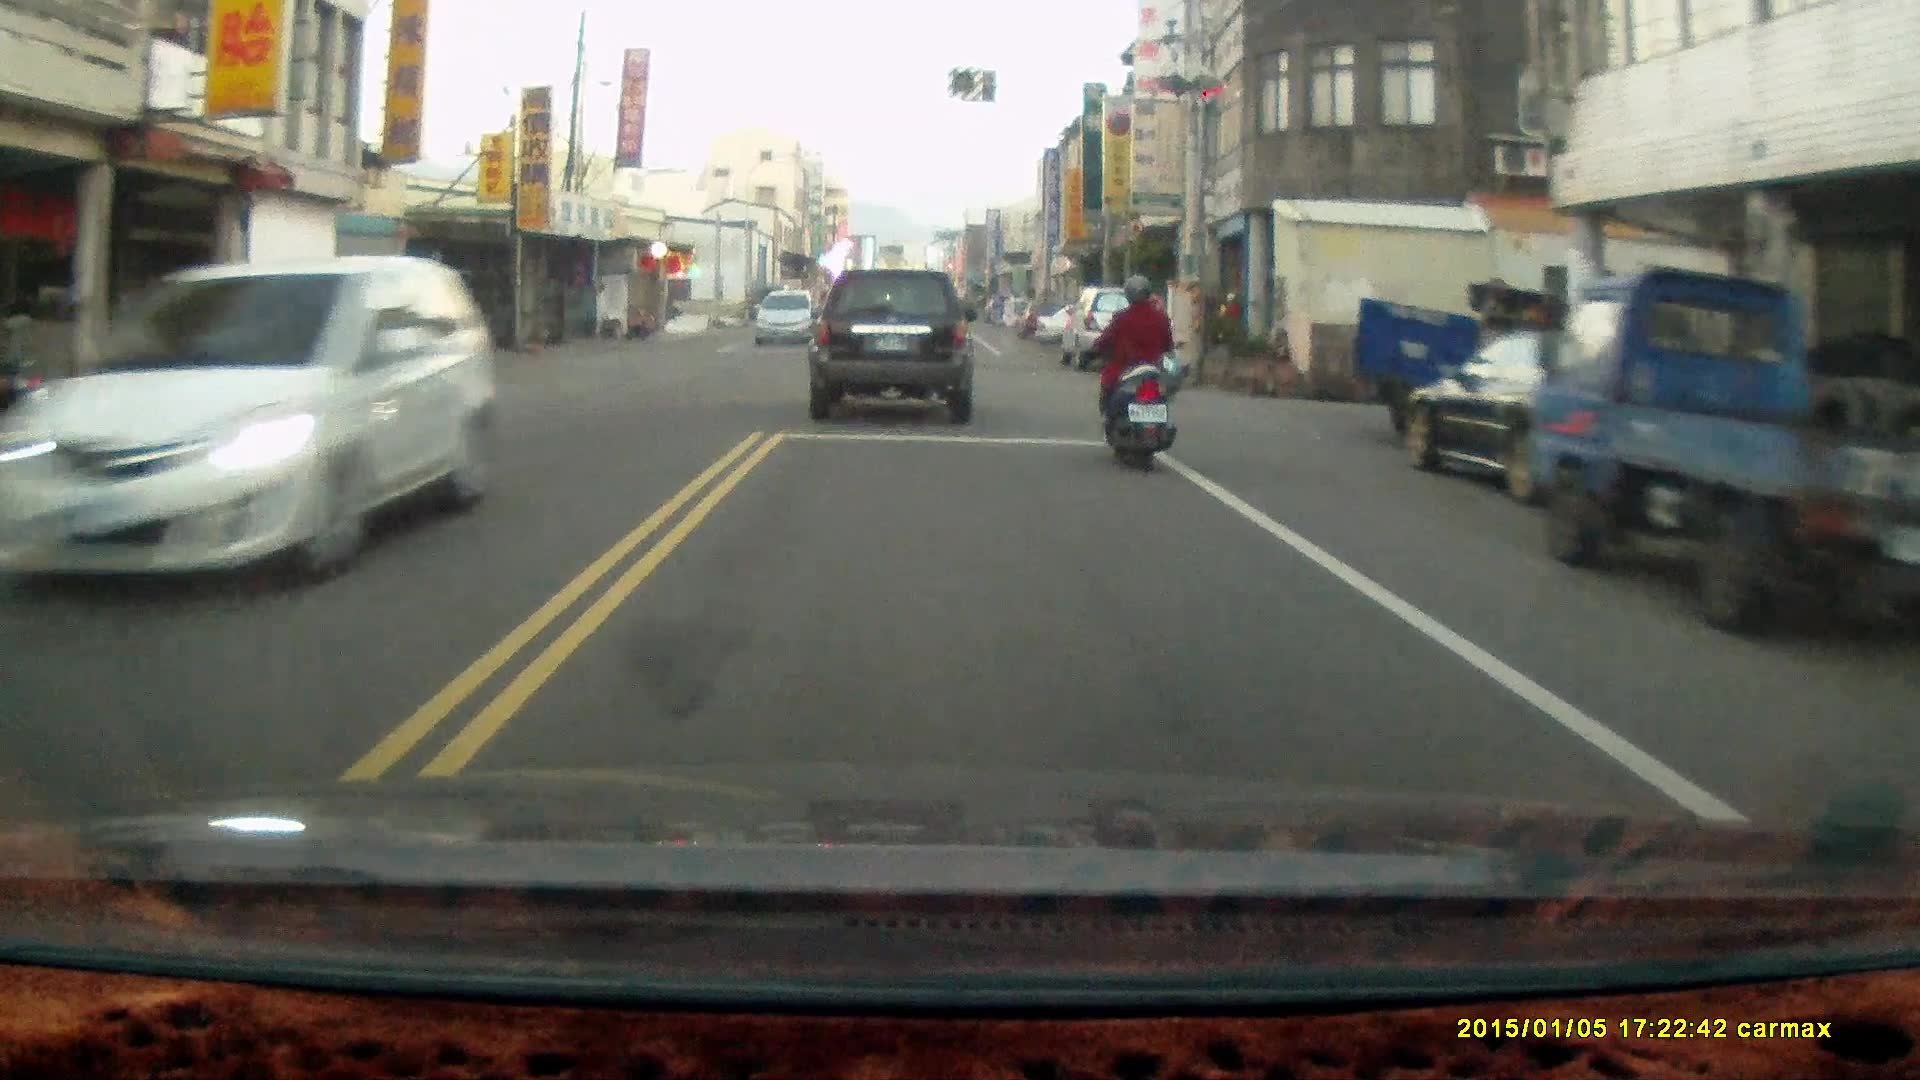rider: (1094, 269, 1175, 469)
vehicle: (21, 254, 484, 590), (1519, 260, 1920, 645), (1393, 325, 1765, 506), (1349, 279, 1617, 451), (807, 264, 980, 428), (1061, 286, 1164, 371), (755, 291, 822, 348)
